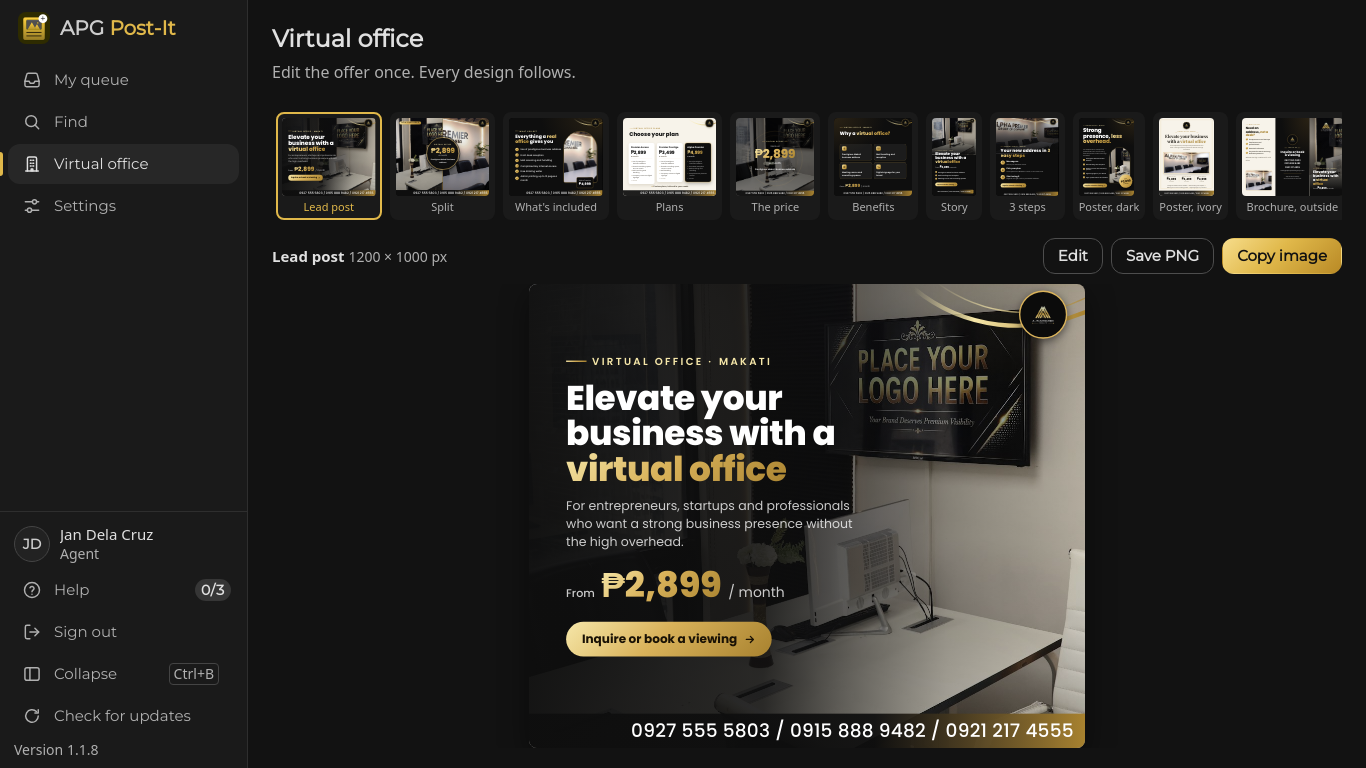
Test: Virtual office › copies the chosen design to paste into a post
The image size is (1366, 768).
Step 1. Click the button "plans" → (670,166), box [617, 112, 722, 220]
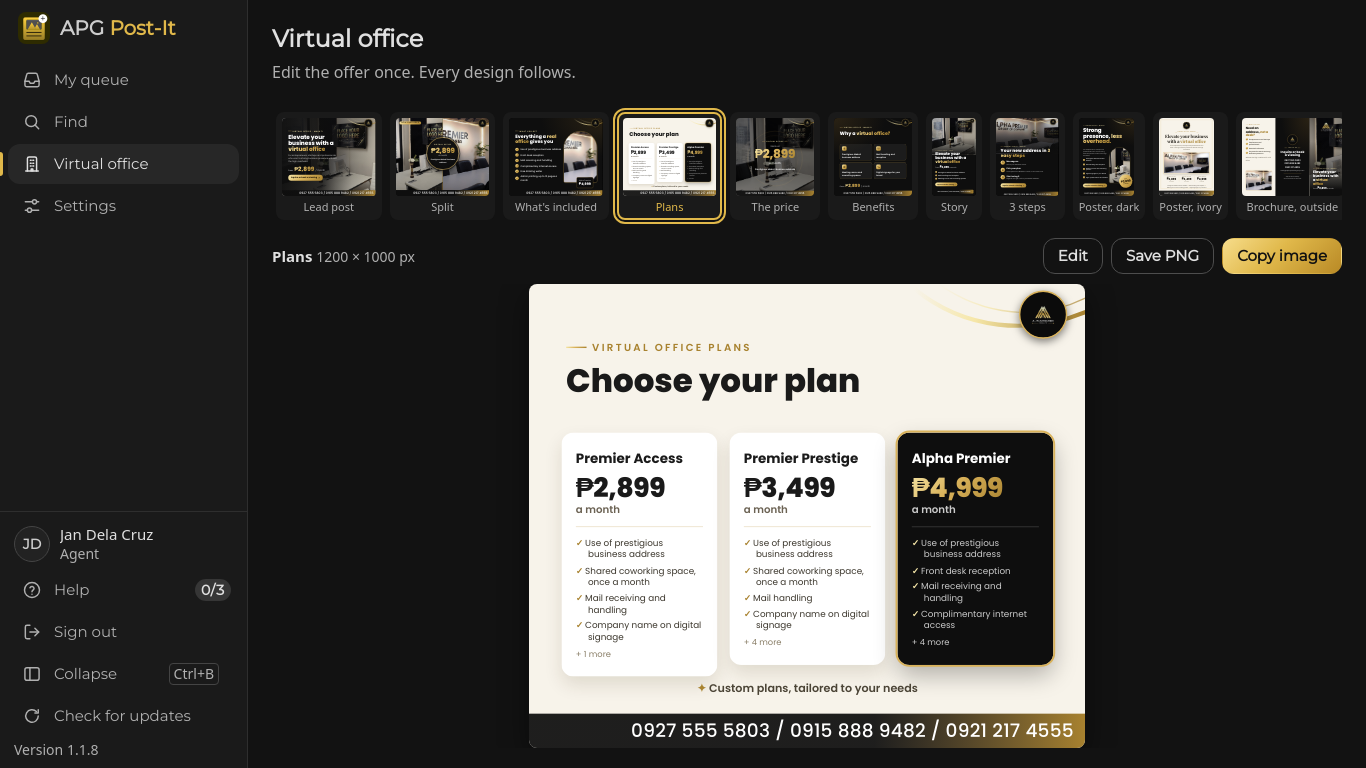
Step 2. Click the button "Copy image" → (1282,256), box [1222, 238, 1342, 274]
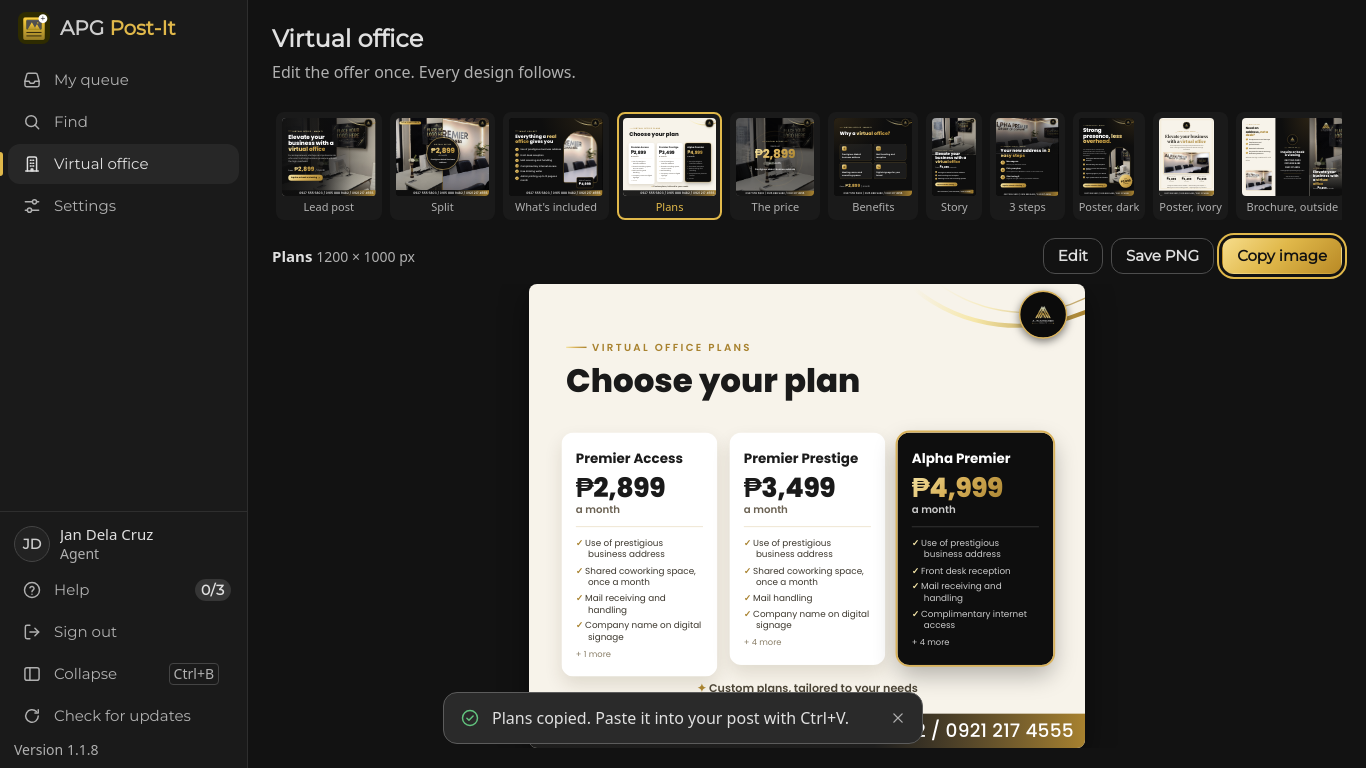
Expected: the 1st text "Plans" is shown, [656, 199, 683, 214]
Expected: the text "Plans copied. Paste it into your post with Ctrl+V." is shown, [492, 700, 868, 736]
